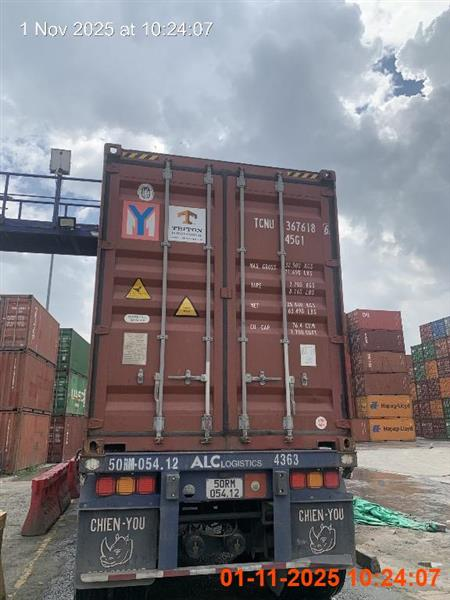scratch: (72, 144, 361, 599)
